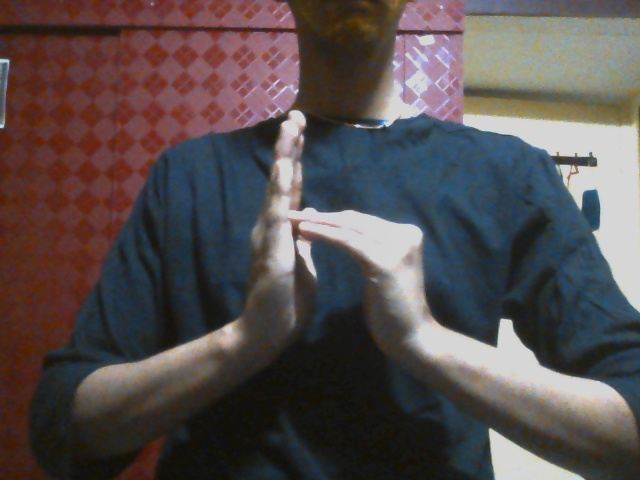Z: (225, 110, 461, 387)
